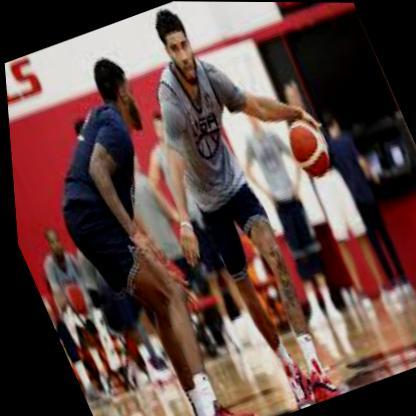basketball: (278, 113, 336, 182)
